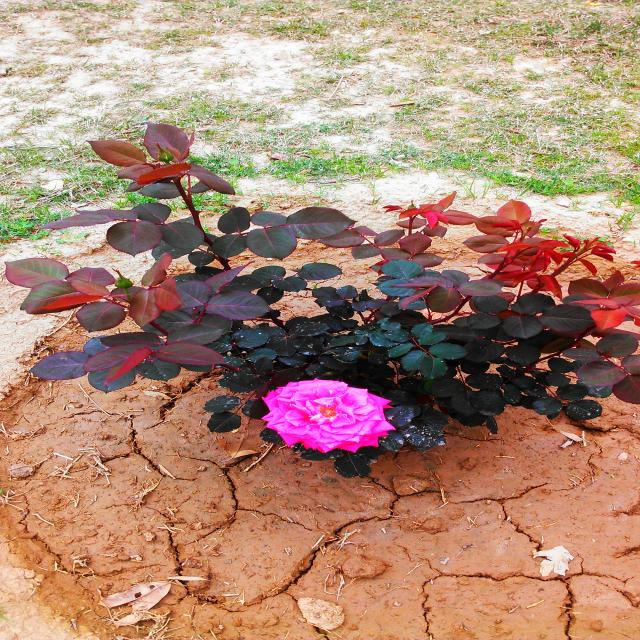rose: (244, 366, 433, 464)
